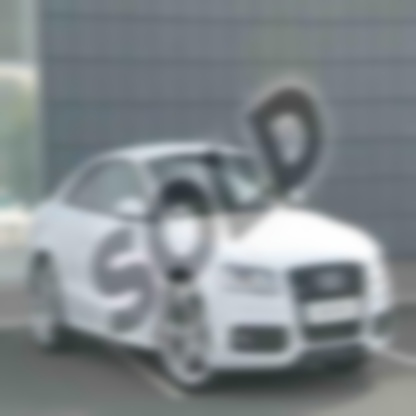Vehicle: (28, 144, 394, 396)
